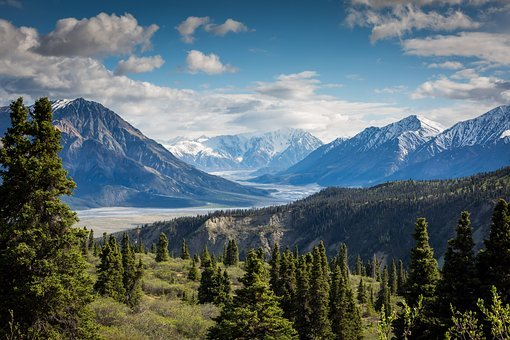forest: (44, 250, 506, 340)
mountain: (52, 100, 510, 194)
sky: (2, 2, 507, 106)
tree: (7, 100, 82, 296)
